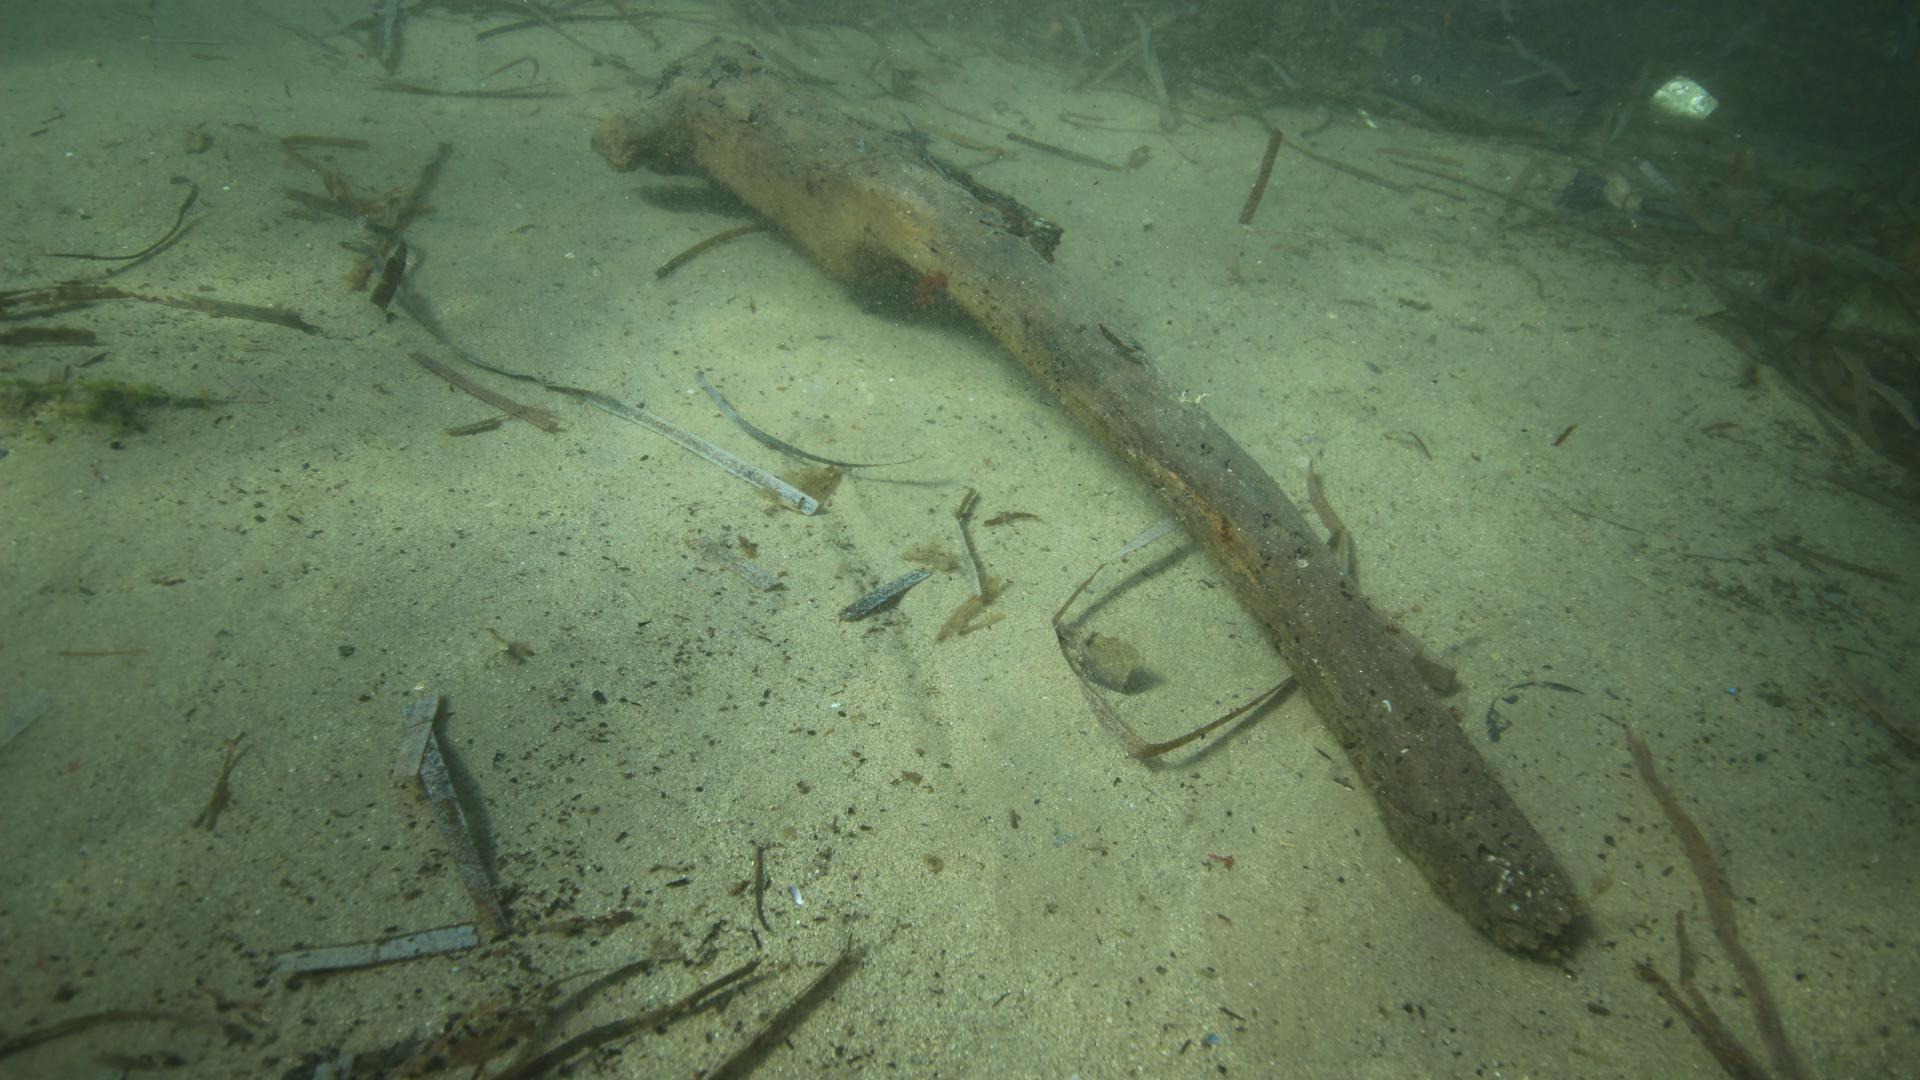wood: (591, 38, 1592, 964)
